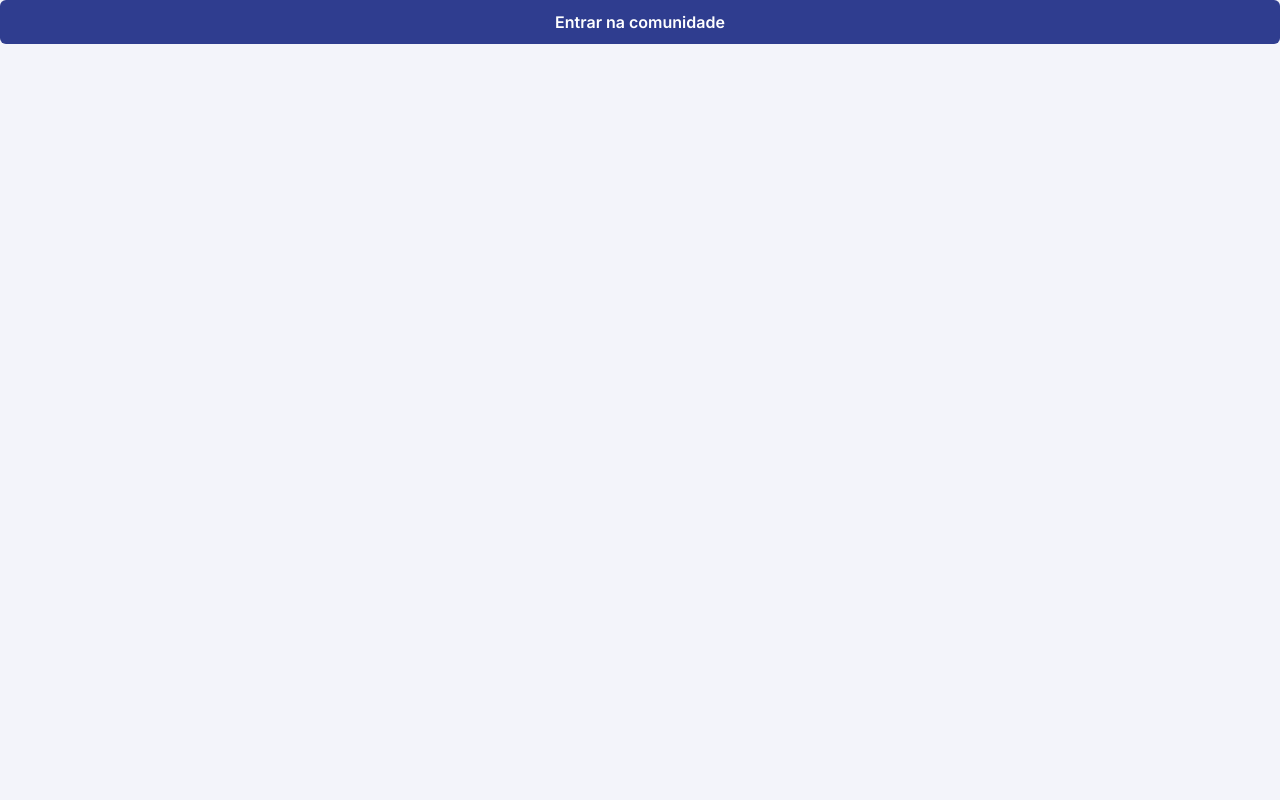
Test: botão de entrar e sair da comunidade › mostra o erro em texto junto da ação
The width and height of the screenshot is (1280, 800).
Click the button "Entrar na comunidade" at {"x": 640, "y": 22}, box [0,0,1279,44]
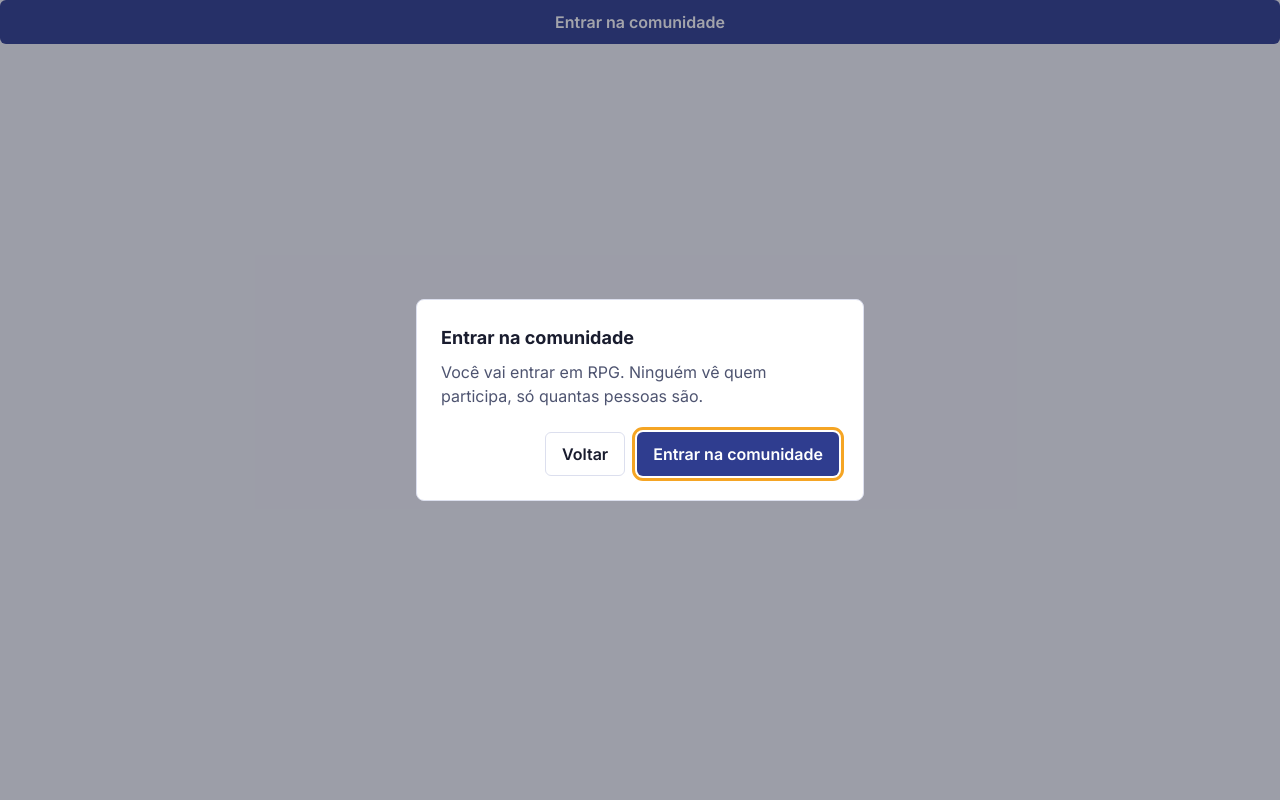
Click the button "Entrar na comunidade" at {"x": 738, "y": 454}, box [637,432,839,476]
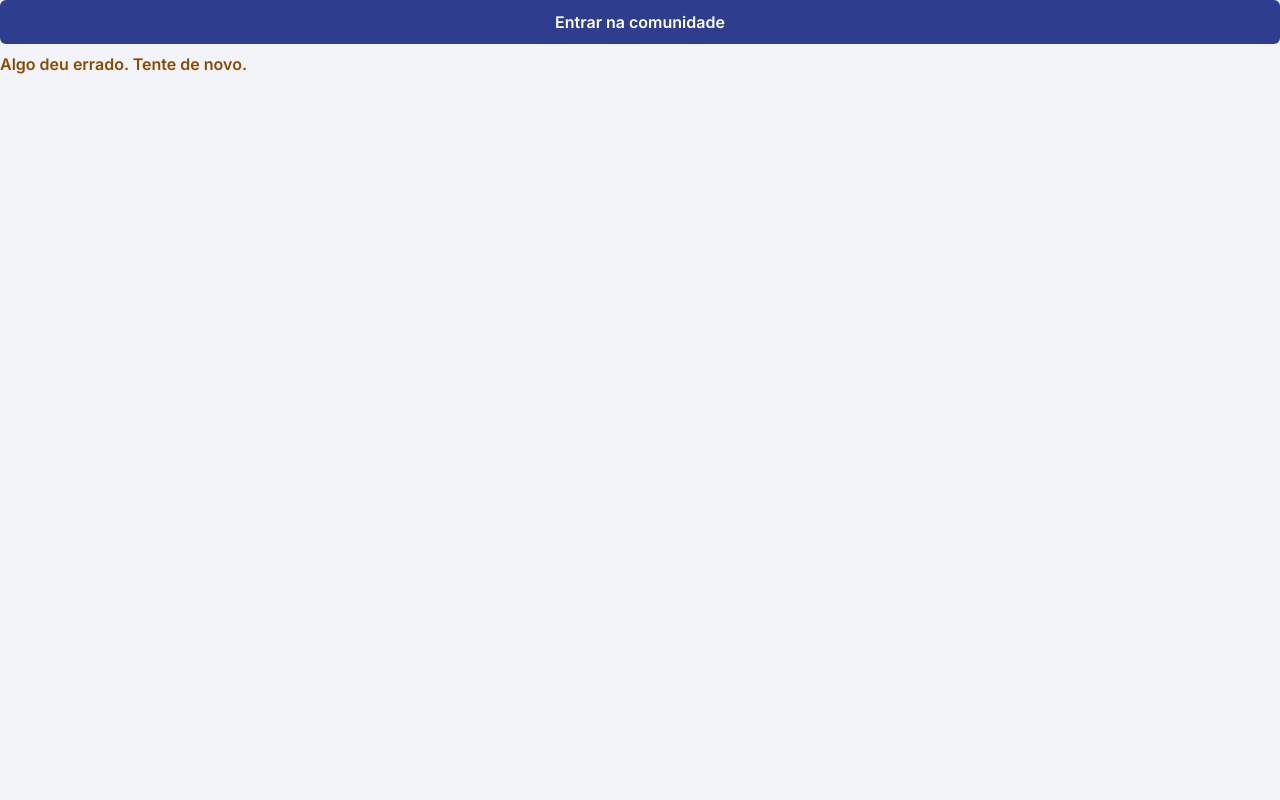
Expected: the message reads "Algo deu errado. Tente de novo.", [0,54,247,74]
